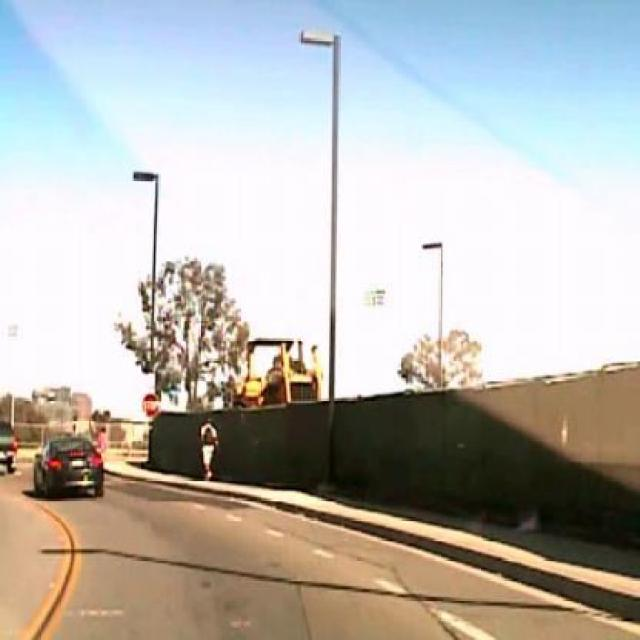Stop: (141, 392, 159, 418)
